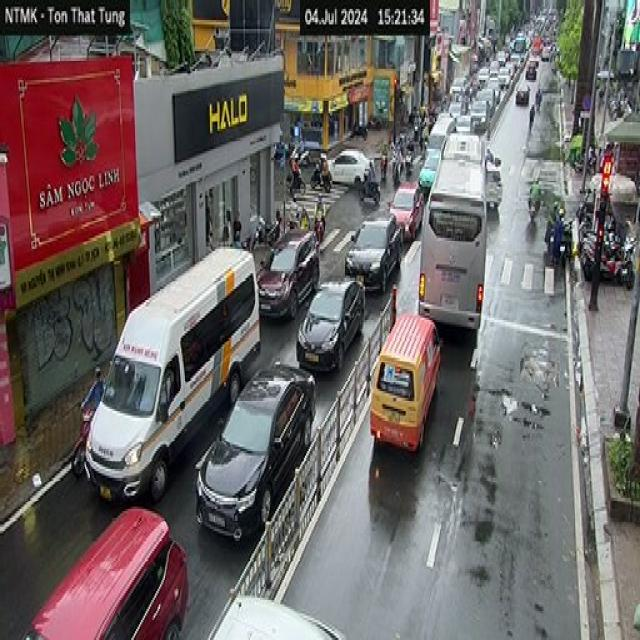Red: (600, 158, 611, 216), (597, 228, 604, 261)
